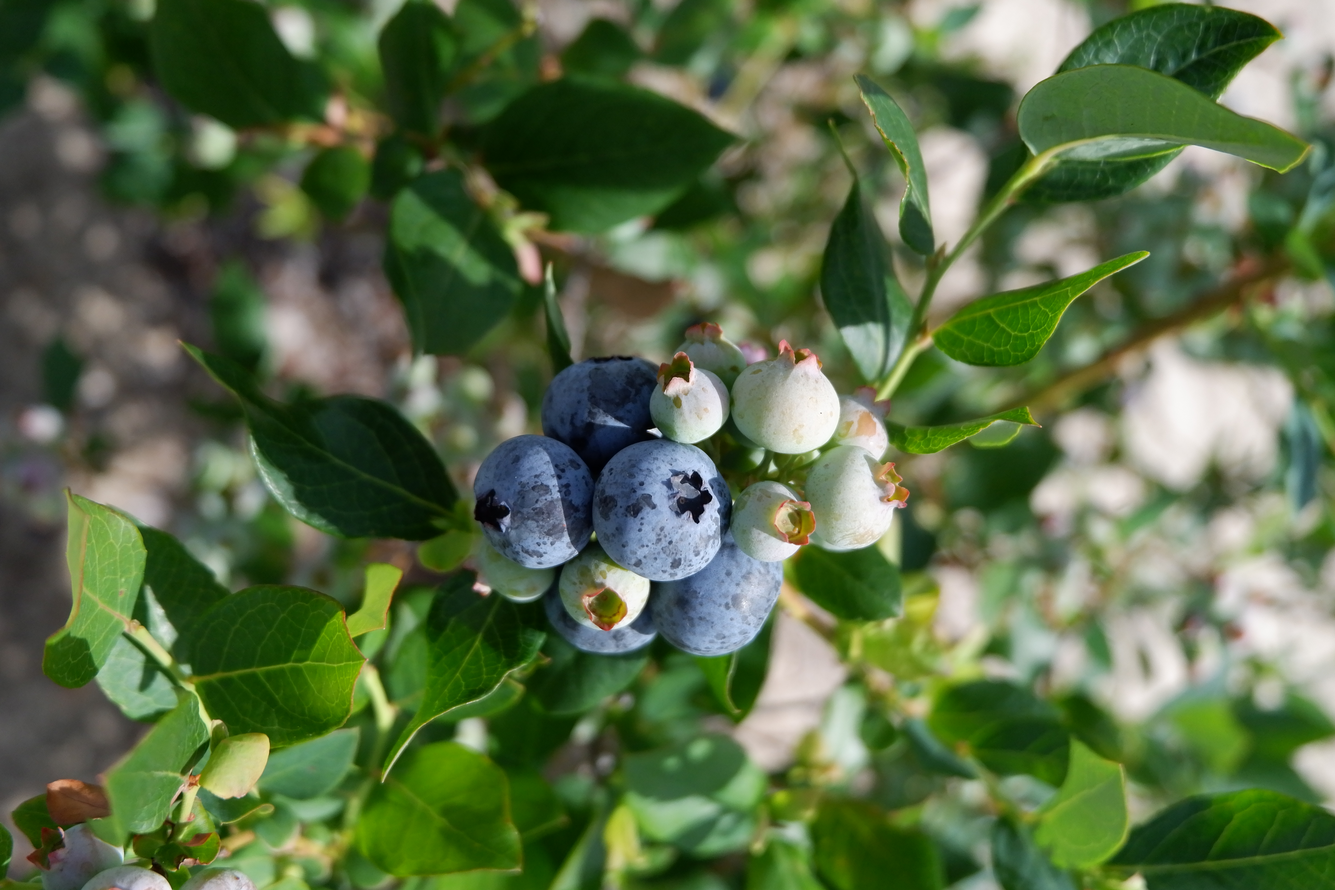Immature: (732, 347, 838, 450), (806, 447, 908, 548), (560, 540, 651, 629), (652, 359, 727, 440), (733, 484, 812, 560), (467, 540, 554, 599), (831, 390, 888, 459), (679, 325, 742, 382)
Mature: (596, 443, 727, 580), (475, 439, 590, 567), (652, 541, 780, 653), (542, 358, 656, 473), (544, 585, 656, 653)
